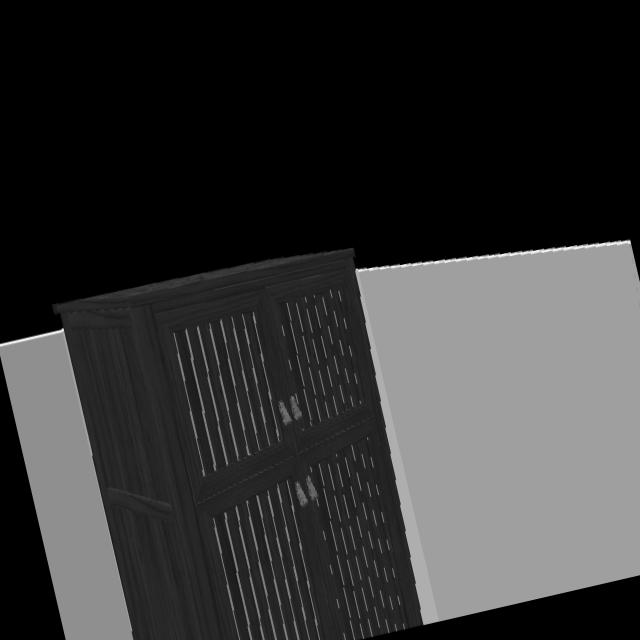wardrobe: (57, 251, 422, 640)
